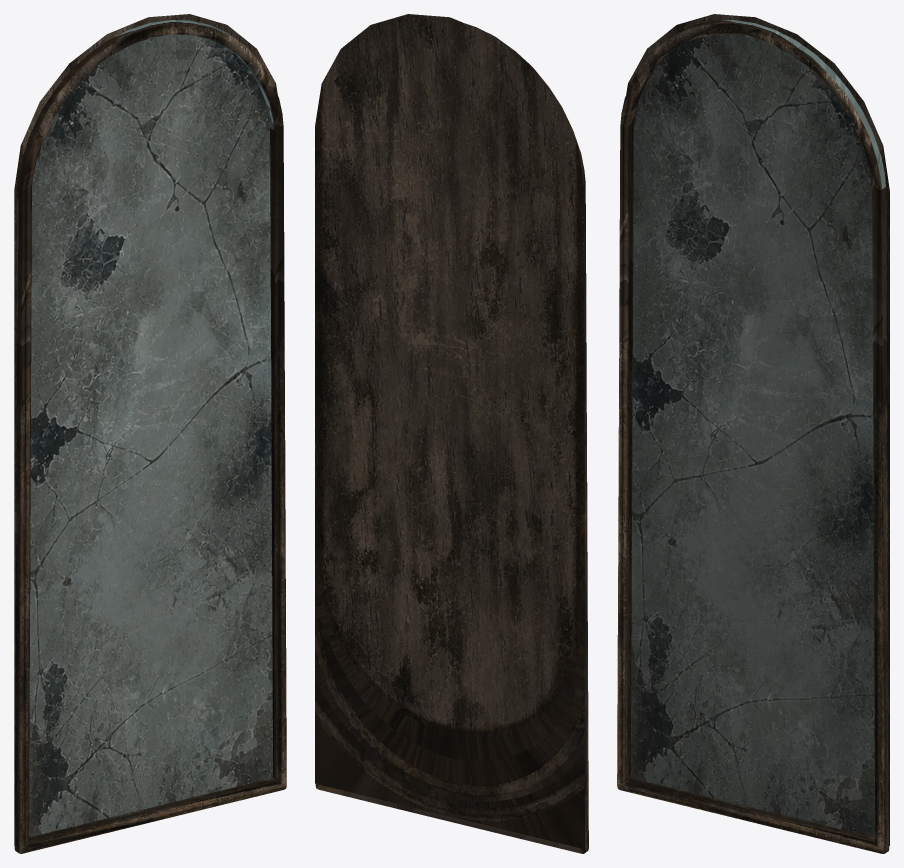
The model's file is Mirror.fbx.
The picture shows the model from 3 angles, left to right: view 1: azimuth 30°, elevation 25°; view 2: azimuth 150°, elevation 25°; view 3: azimuth 330°, elevation 25°; orthographic projection.
Parts seen in each view (by area): view 1: mirrorBMirror; view 2: mirrorBMirror; view 3: mirrorBMirror.
Part boxes in pixels (box(x1,y1,x2,y2)): mirrorBMirror: box(14, 14, 286, 853); mirrorBMirror: box(315, 14, 588, 853); mirrorBMirror: box(617, 14, 889, 853).
Size of the model in its own units: 60.01 by 171 by 2.13.
1 material, 1 textured.
